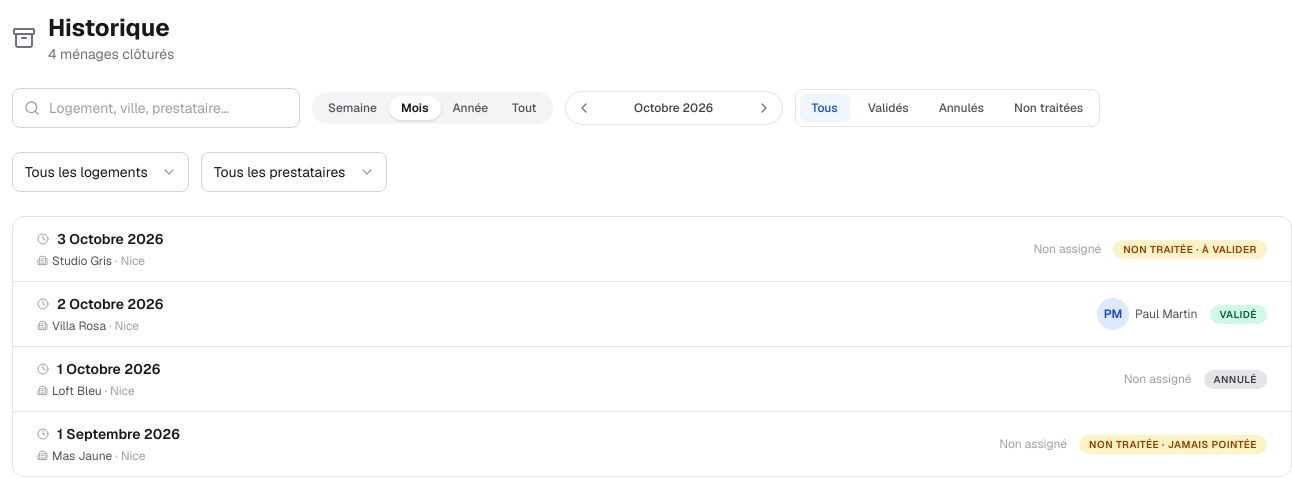
Test: Historique (archives) — liste › la recherche texte filtre sur le logement ou le prestataire
Expected: the text "4 ménages clôturés" is shown, [48,44,174,64]
Type "paul" into the field with placeholder "Logement, ville, prestataire…" at (156, 108), box [12,88,300,128]
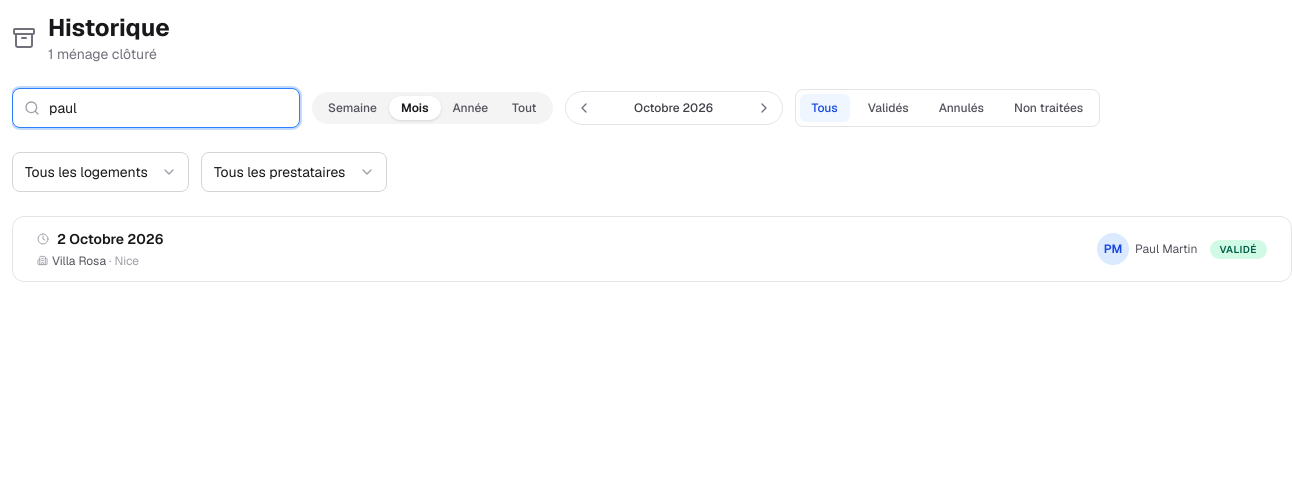
Expected: the number of list items is 1, [13,217,1291,281]
Expected: the text "1 ménage clôturé" is shown, [48,44,170,64]
